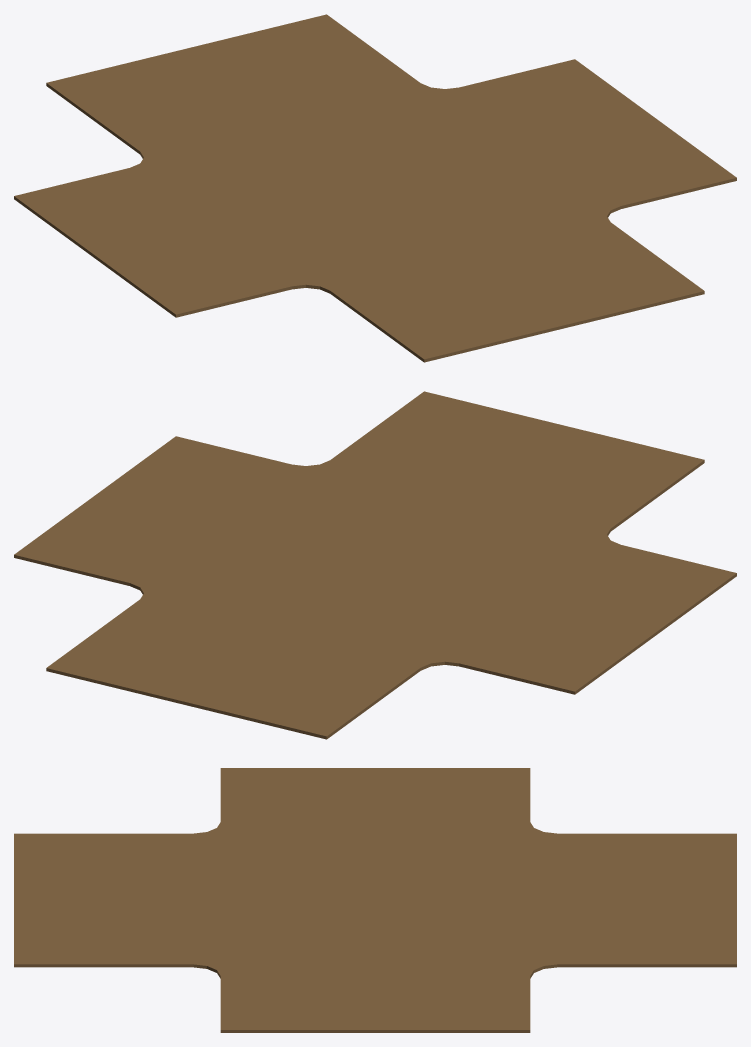
File: RoadTile_4.fbx
3 renders of one model, top to bottom at view 1: azimuth 30°, elevation 25°; view 2: azimuth 150°, elevation 25°; view 3: azimuth 270°, elevation 25°, orthographic. The views are drawn at different scales.
Parts seen in each view (by area): view 1: RoadTile_4; view 2: RoadTile_4; view 3: RoadTile_4.
Boxes of the visible parts, x1=… form: RoadTile_4: x1=14, y1=14, x2=736, y2=362; RoadTile_4: x1=14, y1=391, x2=736, y2=739; RoadTile_4: x1=14, y1=768, x2=736, y2=1032.
Bounding box in the file's own units: 600 × 3.22 × 700.
